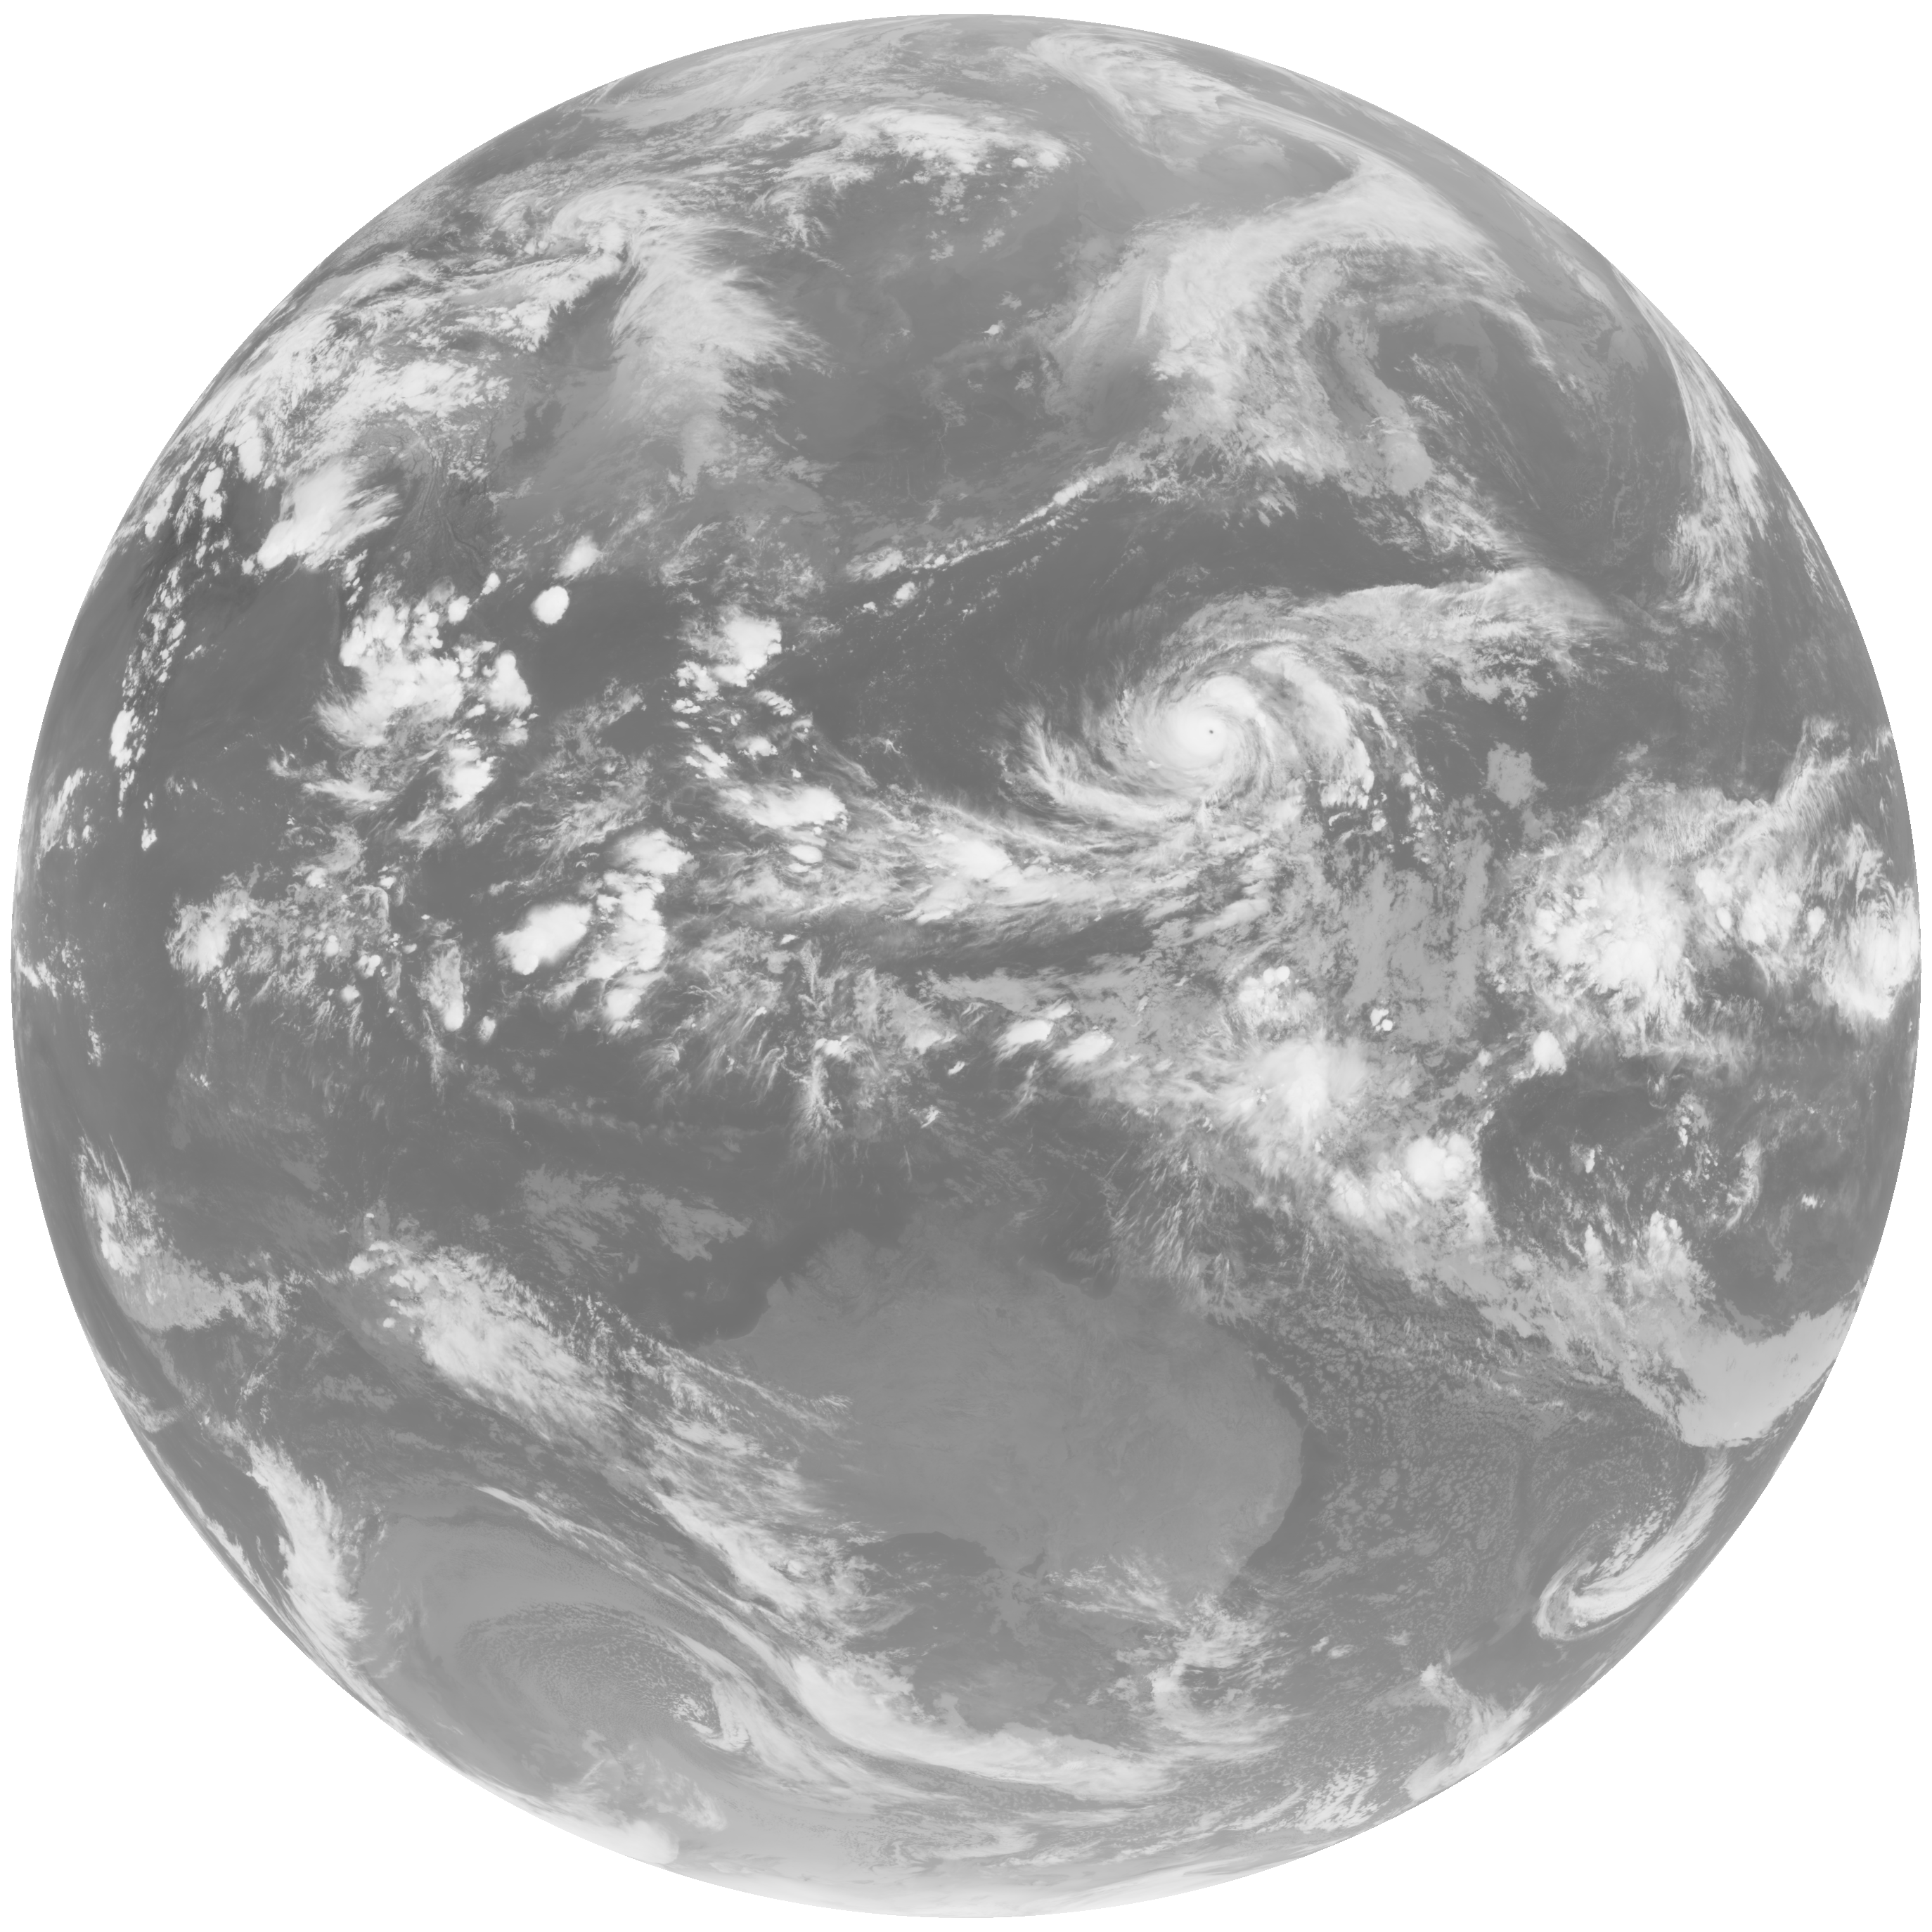typhoon: (966, 563, 1511, 929)
